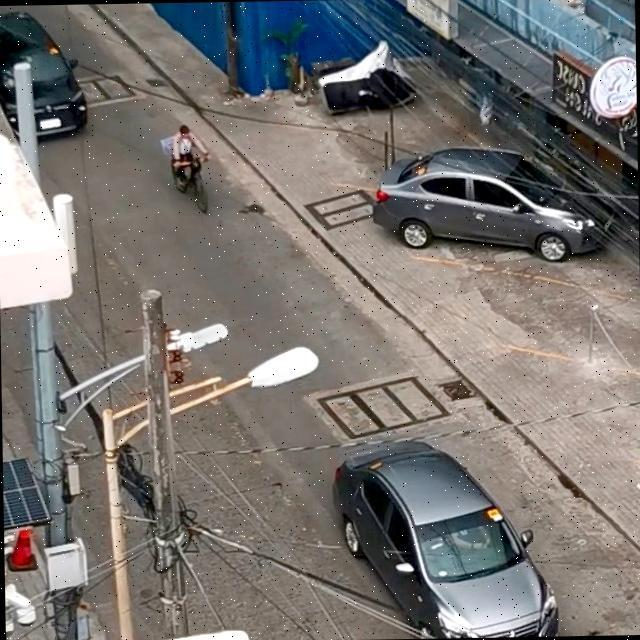Bike: (172, 148, 210, 213)
